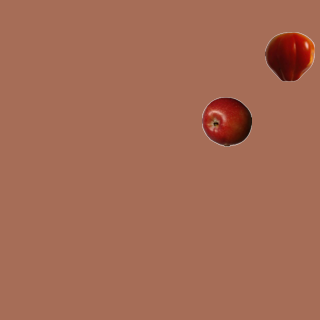Apple Braeburn: (201, 96, 251, 146)
Tomato 1: (264, 31, 314, 81)
